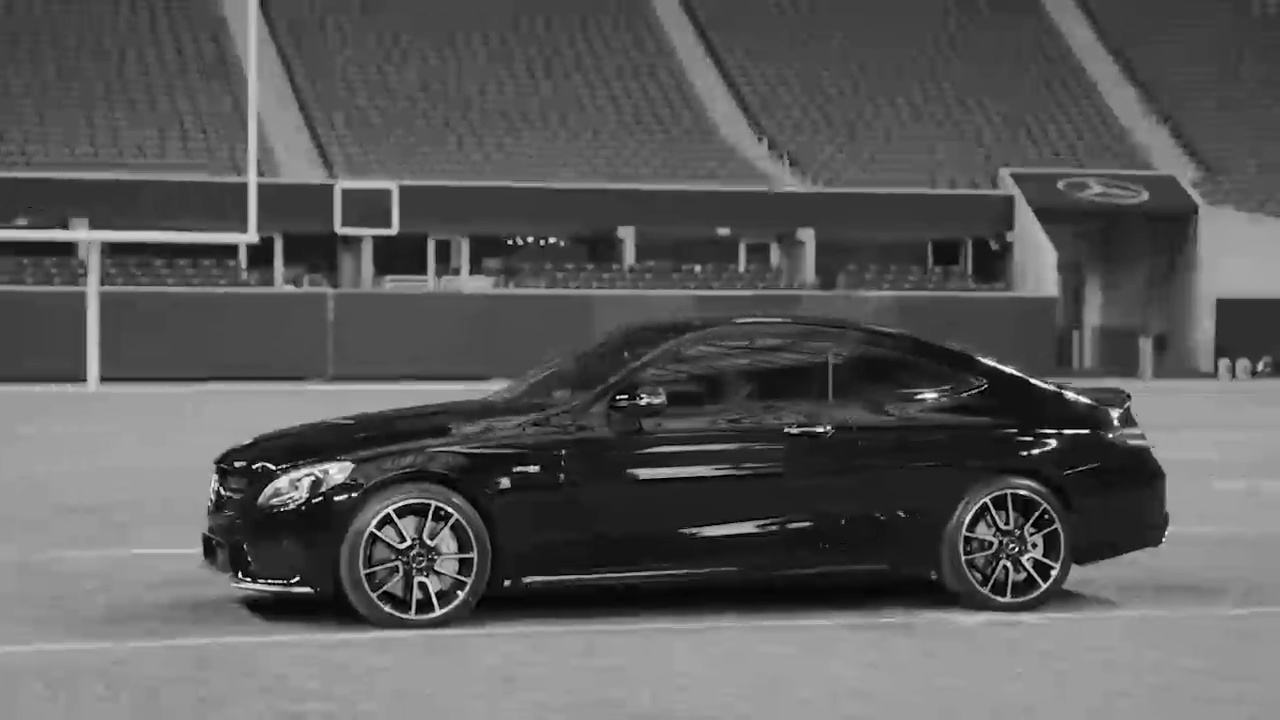car: (199, 312, 1171, 620)
